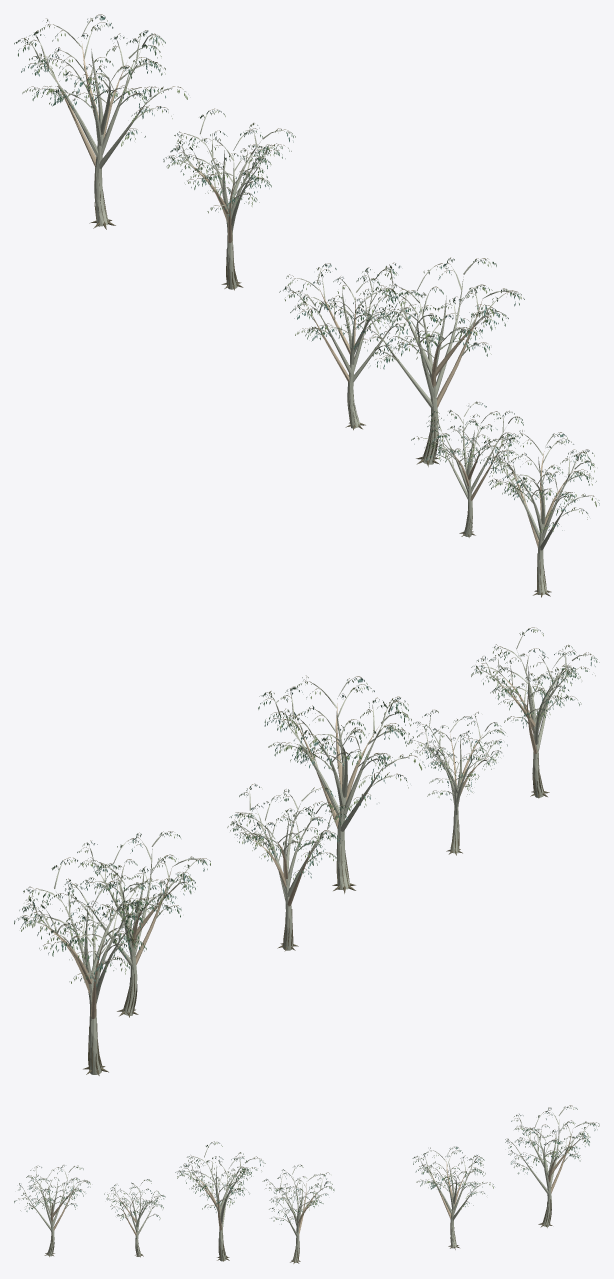
File: ecology-eucalyptus-mid-12.glb
3 views of the same model, one above another, from view 1: azimuth 30°, elevation 25°; view 2: azimuth 150°, elevation 25°; view 3: azimuth 270°, elevation 25° (orthographic). The views are drawn at different scales.
Parts seen in each view (by area): view 1: eucalyptus-mid-108, eucalyptus-mid-111, eucalyptus-mid-110, eucalyptus-mid-109, eucalyptus-mid-113, eucalyptus-mid-112; view 2: eucalyptus-mid-111, eucalyptus-mid-108, eucalyptus-mid-109, eucalyptus-mid-110, eucalyptus-mid-113, eucalyptus-mid-112; view 3: eucalyptus-mid-108, eucalyptus-mid-111, eucalyptus-mid-109, eucalyptus-mid-113, eucalyptus-mid-110, eucalyptus-mid-112.
Boxes of the visible parts, <box> form: eucalyptus-mid-108: <box>14,14,188,229</box>; eucalyptus-mid-111: <box>352,257,524,466</box>; eucalyptus-mid-110: <box>279,263,424,430</box>; eucalyptus-mid-109: <box>163,108,295,290</box>; eucalyptus-mid-113: <box>478,430,599,597</box>; eucalyptus-mid-112: <box>411,401,523,537</box>; eucalyptus-mid-111: <box>258,675,424,893</box>; eucalyptus-mid-108: <box>14,857,169,1075</box>; eucalyptus-mid-109: <box>64,831,210,1017</box>; eucalyptus-mid-110: <box>227,783,352,951</box>; eucalyptus-mid-113: <box>471,627,599,798</box>; eucalyptus-mid-112: <box>406,709,507,855</box>; eucalyptus-mid-108: <box>505,1105,599,1227</box>; eucalyptus-mid-111: <box>175,1141,265,1261</box>; eucalyptus-mid-109: <box>412,1146,494,1249</box>; eucalyptus-mid-113: <box>14,1165,90,1256</box>; eucalyptus-mid-110: <box>262,1164,334,1263</box>; eucalyptus-mid-112: <box>104,1179,165,1257</box>.
Size of the model in its own units: 15.5 by 19.07 by 73.8.
